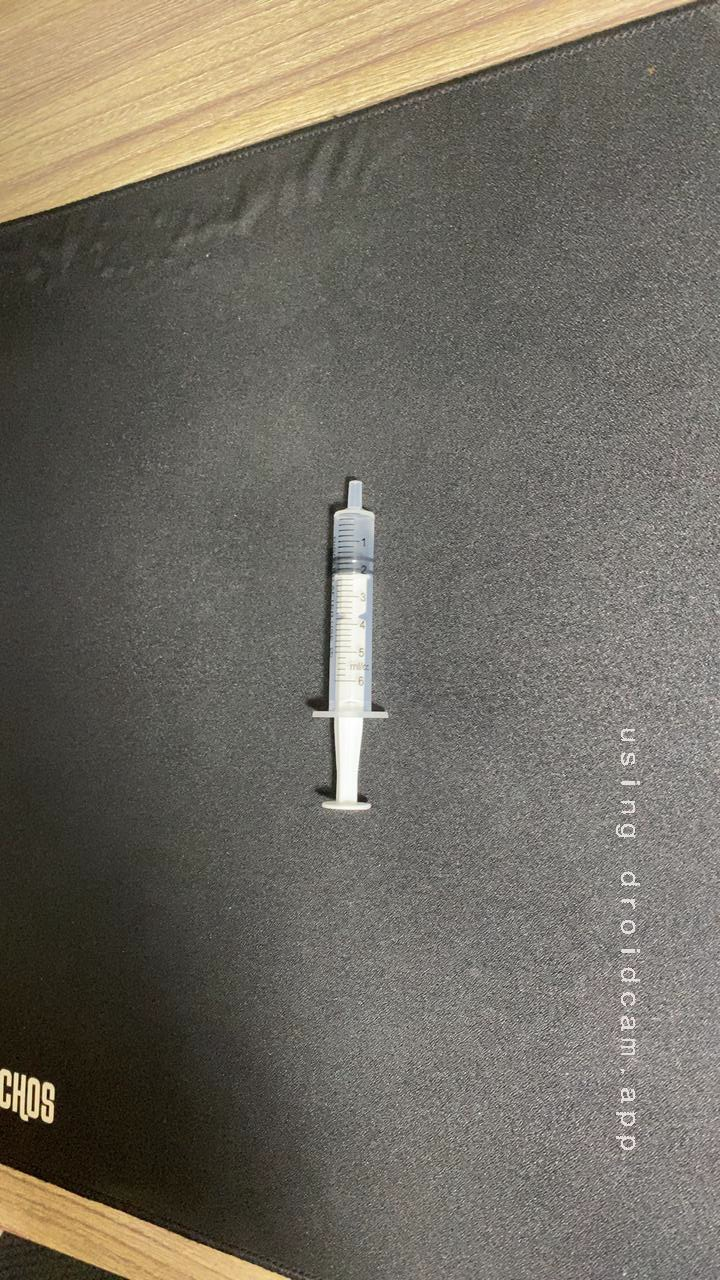syringe: (274, 460, 440, 832)
